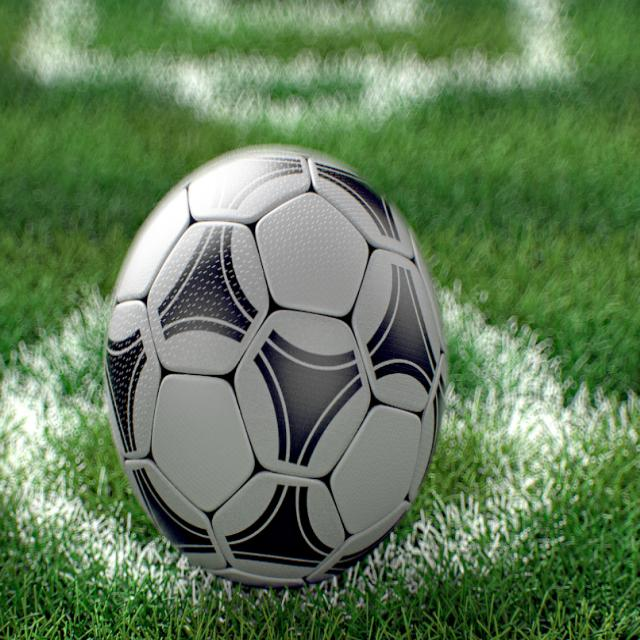football: (94, 92, 497, 600)
